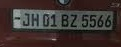numberplate: (11, 8, 114, 30)
